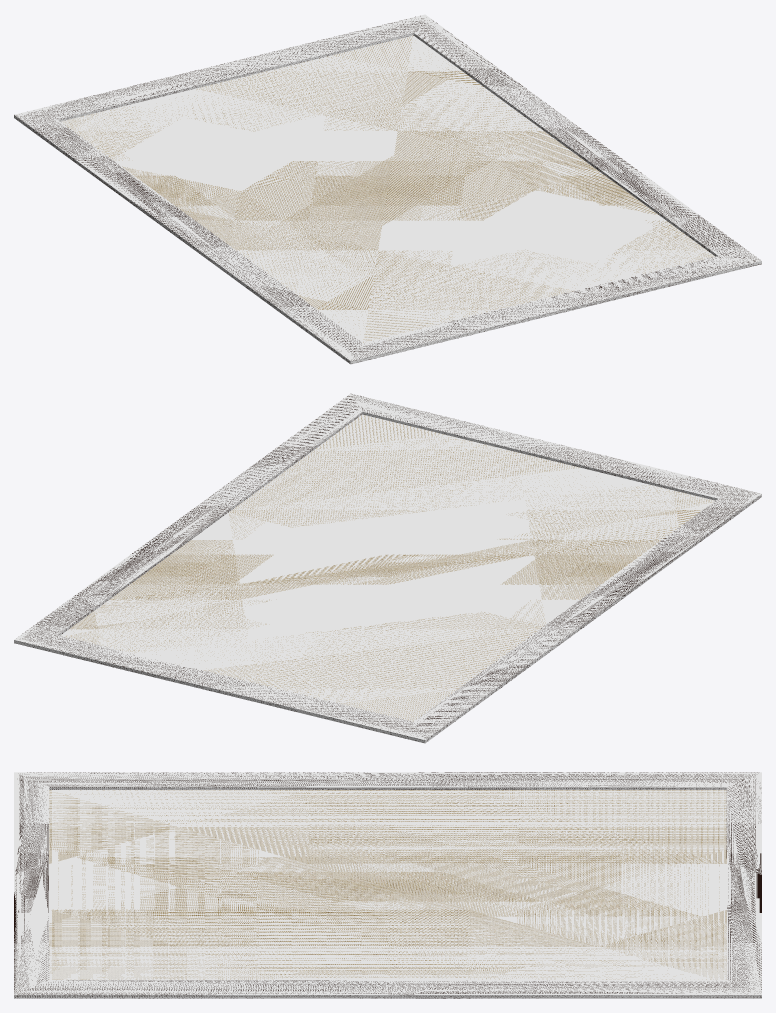
Rendered from rug.dae.
The picture shows the model from 3 angles, top to bottom: view 1: azimuth 30°, elevation 25°; view 2: azimuth 150°, elevation 25°; view 3: azimuth 270°, elevation 25°; orthographic projection. The views are drawn at different scales.
Parts seen in each view (by area): view 1: SketchUp (×3); view 2: SketchUp (×3); view 3: SketchUp (×3).
Part boxes in pixels (bbox=[...]): SketchUp (×3): bbox=[14, 14, 761, 364]; SketchUp (×3): bbox=[14, 393, 761, 743]; SketchUp (×3): bbox=[14, 772, 761, 998].
Size of the model in its own units: 98 by 139 by 0.75.
